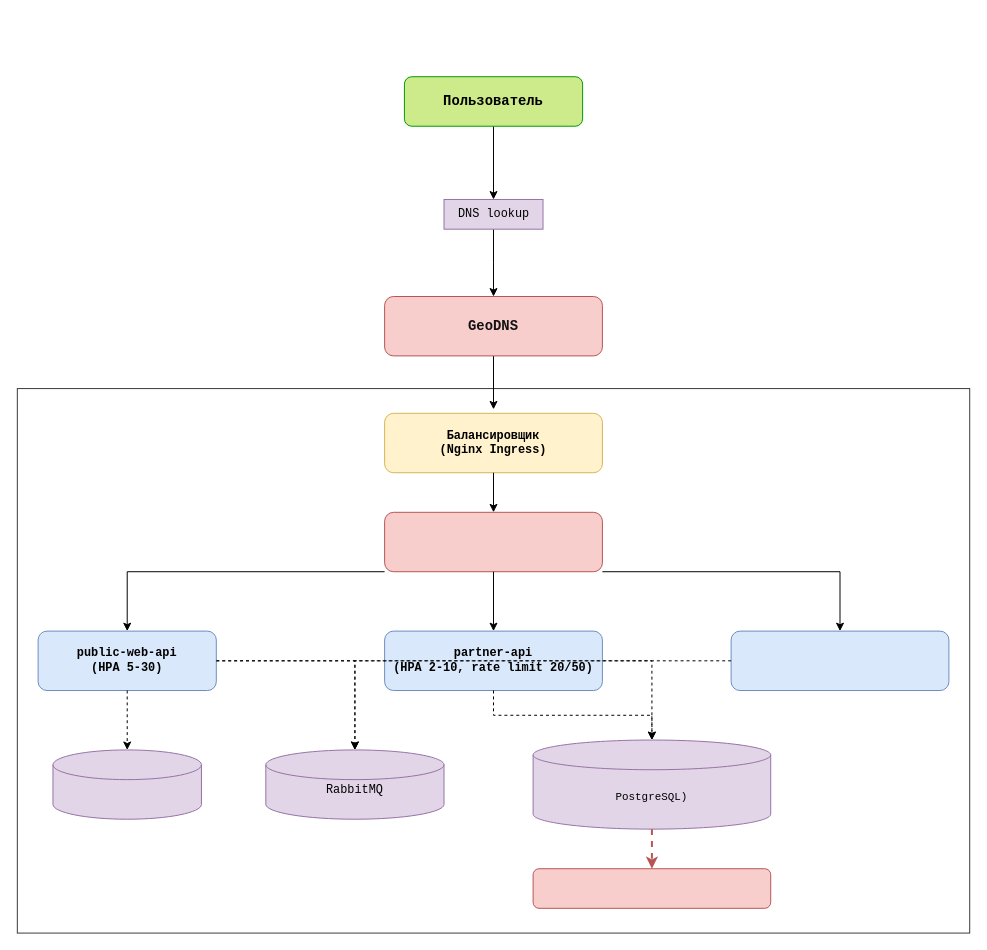
This 987x950 diagram has some shape labels left out. Each missing label, with the box of its shape:
API Gateway (Rate limiting, Auth, Routing): (384, 511, 602, 572)
ins-product-aggregator (Circuit Breaker): (730, 630, 949, 691)
Redis Cluster (Кэш, сессии): (52, 749, 201, 819)
Асинхронная логическая репликация (в другой регион, RPO 15 мин): (532, 868, 771, 908)
